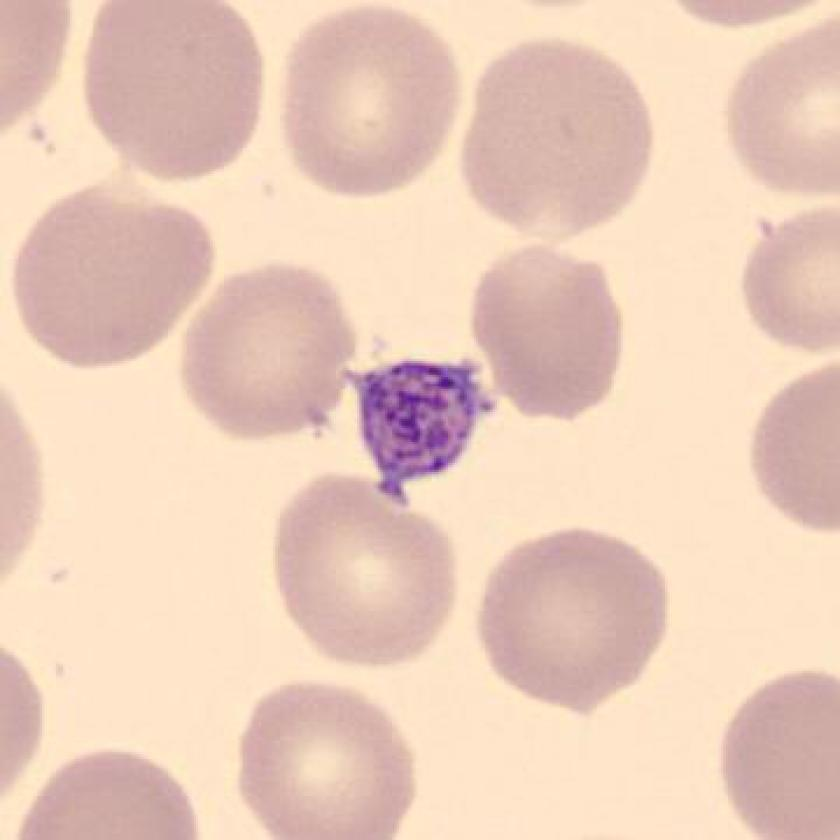platelets: (339, 351, 496, 506)
